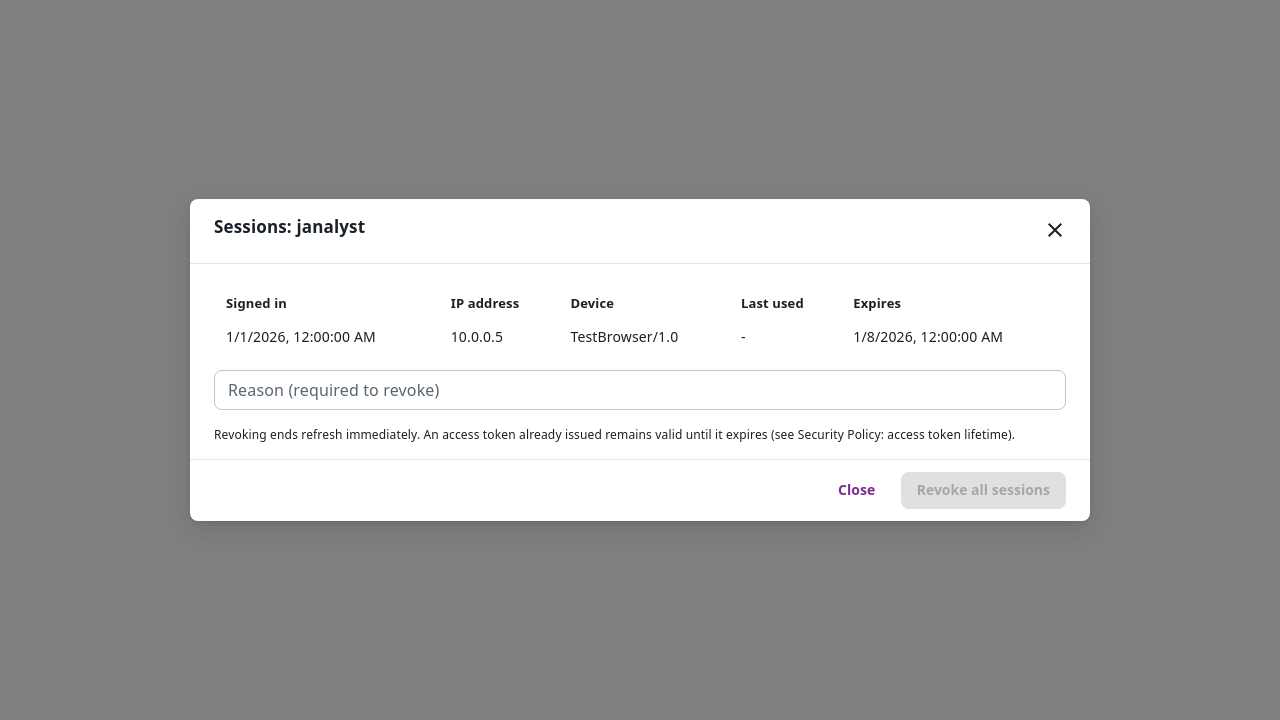
Scenario: UserSessionsDialog › requires a reason before revoking, then revokes and reloads
Expected: the text "10.0.0.5" is shown, [439,319,558,353]
Expected: the button "Revoke all sessions" is disabled, [901,472,1066,508]
Type "Lost laptop" into the text box labelled "Reason (required to revoke)" at [640, 390], box [228,378,1052,401]
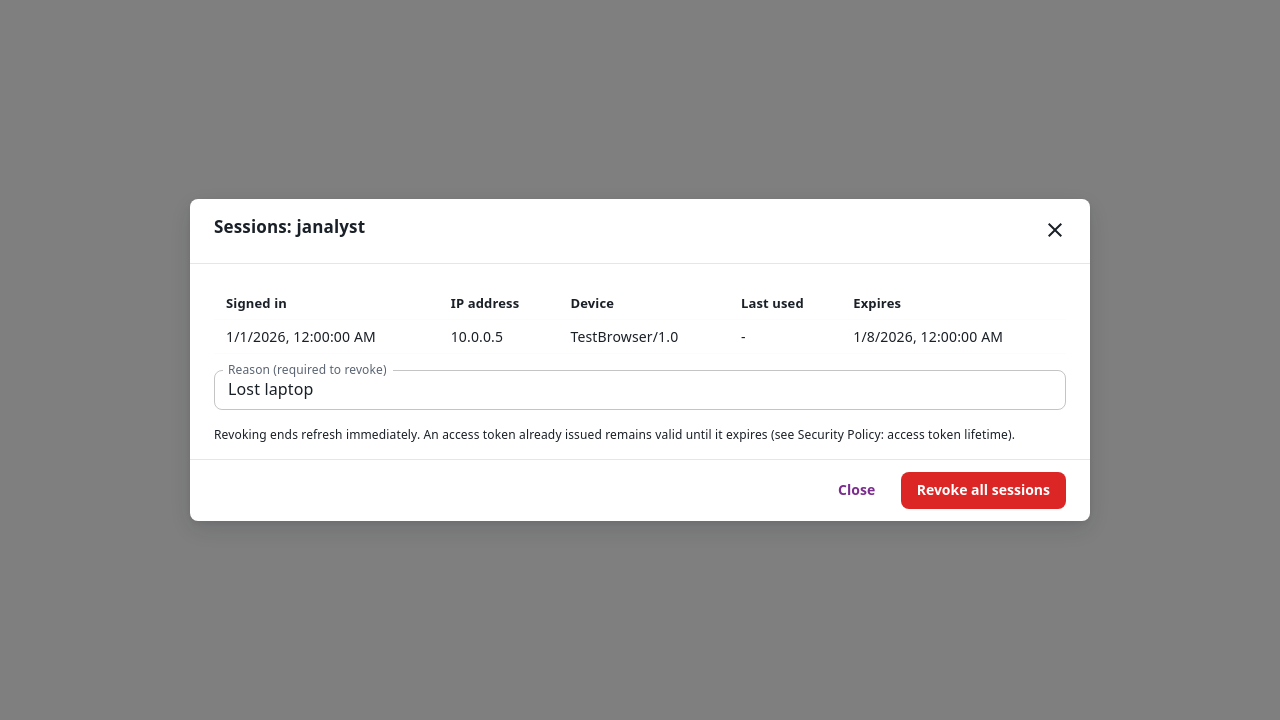
Expected: the button "Revoke all sessions" is enabled
Click the button "Revoke all sessions" at [983, 490], box [901,472,1066,508]
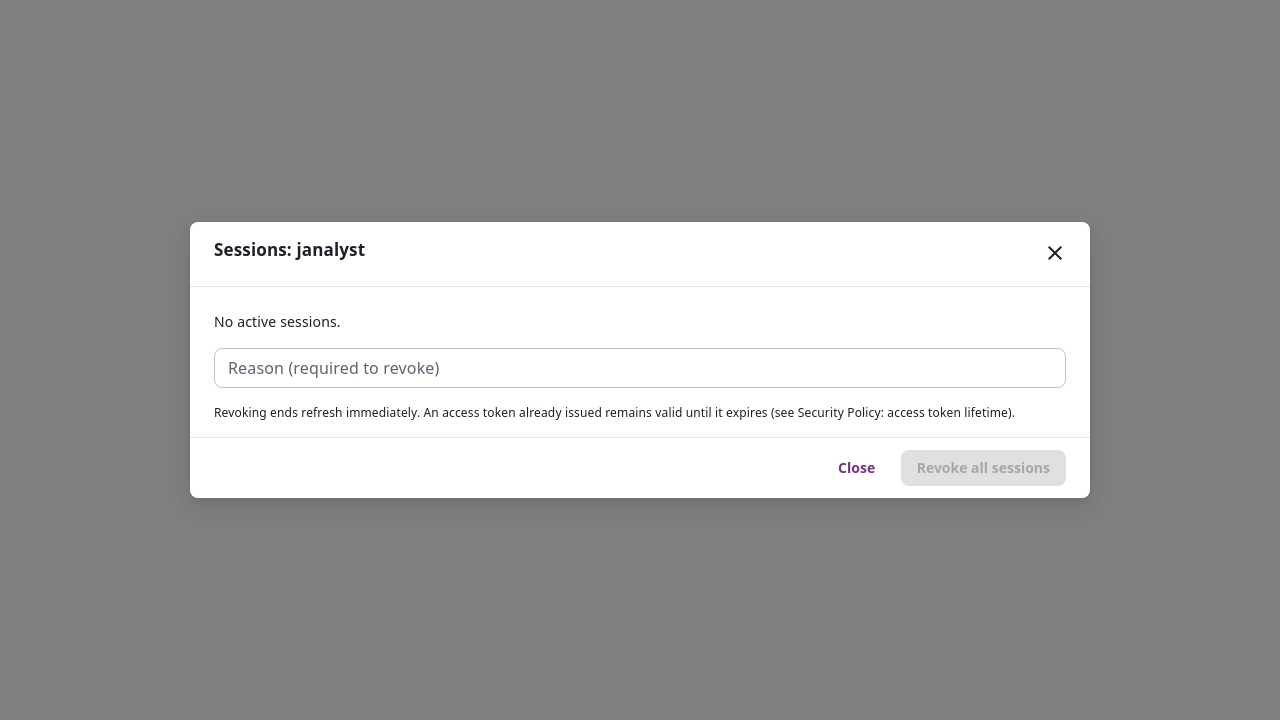
Expected: the text "No active sessions." is shown, [214,312,341,330]
